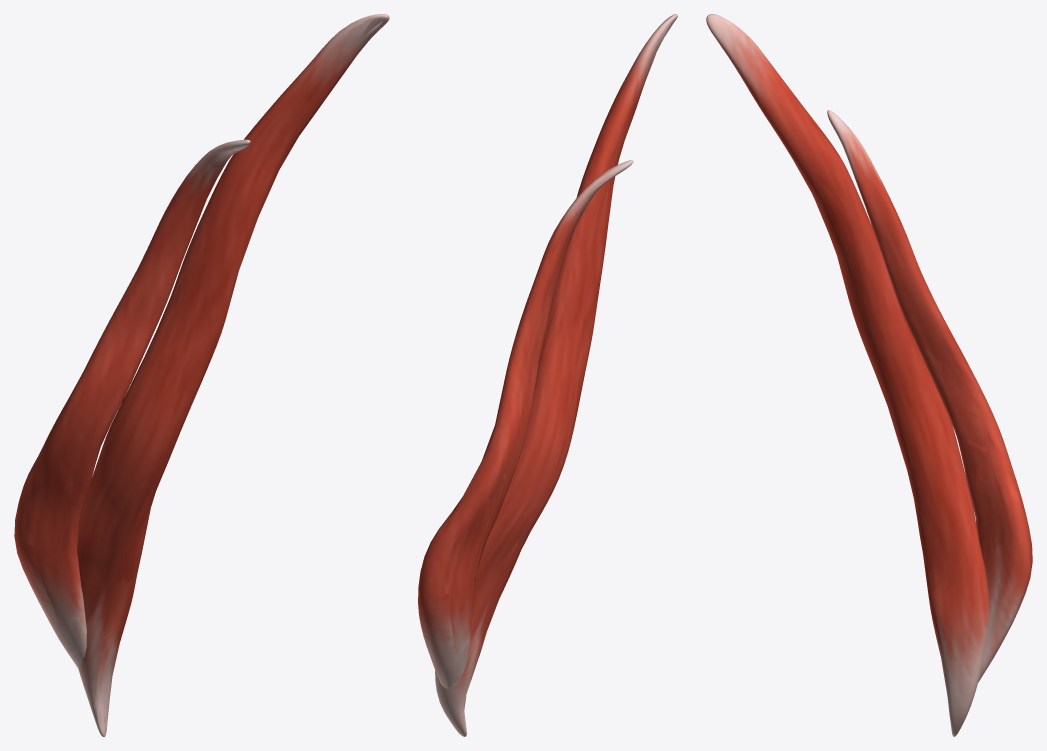
The model's file is L Omotransversarius.fbx.
The picture shows the model from 3 angles, left to right: view 1: azimuth 90°, elevation 25°; view 2: azimuth 150°, elevation 25°; view 3: azimuth 270°, elevation 25°; orthographic projection. The views are drawn at different scales.
Visible parts, largest first — view 1: L Omotransversarius, L Omotransversarius low; view 2: L Omotransversarius, L Omotransversarius low; view 3: L Omotransversarius, L Omotransversarius low.
Part boxes in pixels (box(x1,y1,x2,y2)): L Omotransversarius: box(14, 14, 389, 736); L Omotransversarius low: box(14, 19, 384, 736); L Omotransversarius: box(418, 14, 677, 736); L Omotransversarius low: box(419, 21, 673, 732); L Omotransversarius: box(706, 14, 1032, 736); L Omotransversarius low: box(721, 28, 1032, 733).
Size of the model in its own units: 18.15 by 88.4 by 38.74.
